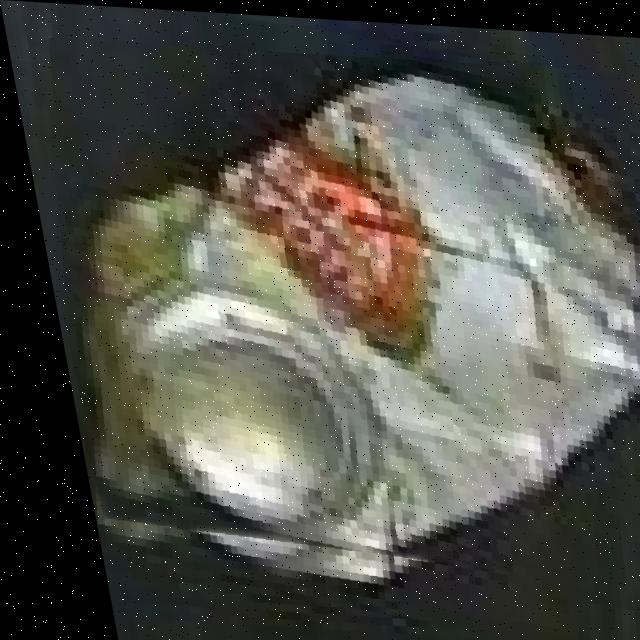can: (63, 42, 640, 569)
